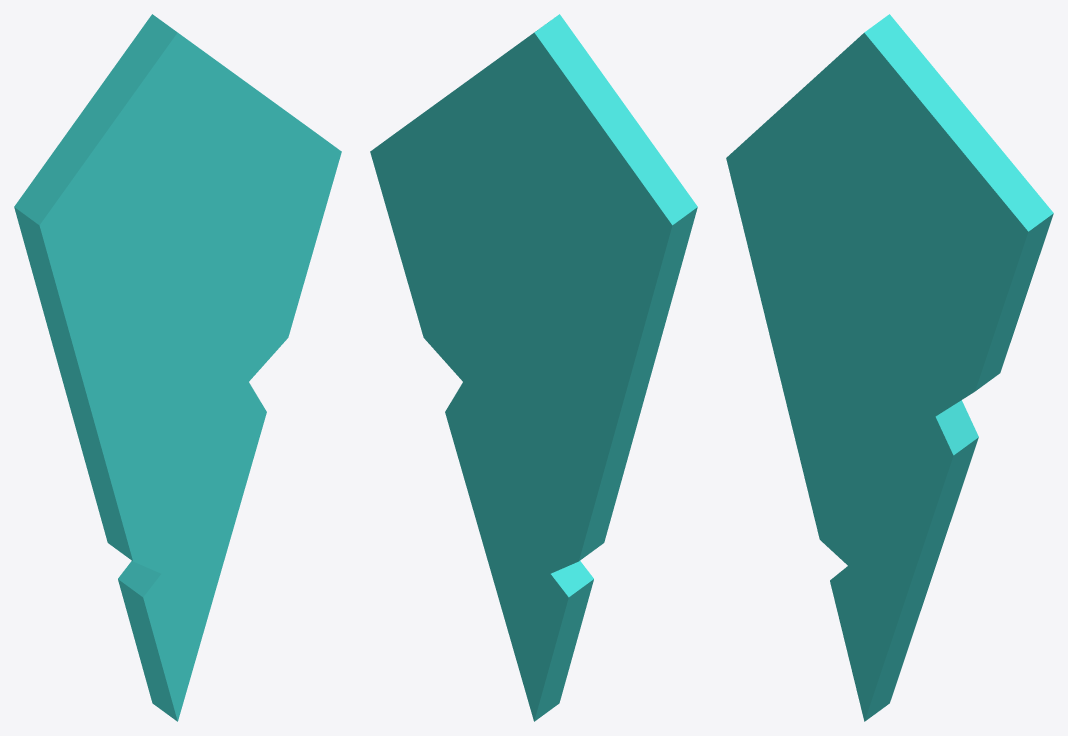
Rendered from icicle.glb.
3 renders of one model, left to right at view 1: azimuth 30°, elevation 25°; view 2: azimuth 150°, elevation 25°; view 3: azimuth 330°, elevation 25°, orthographic.
Visible parts, largest first — view 1: Cube; view 2: Cube; view 3: Cube.
Boxes of the visible parts, left/top/right/bottom form: Cube: left=14, top=14, right=341, bottom=721; Cube: left=370, top=14, right=697, bottom=721; Cube: left=726, top=14, right=1053, bottom=721.
Bounding box in the file's own units: 0.5053 × 1.1 × 0.0735.
